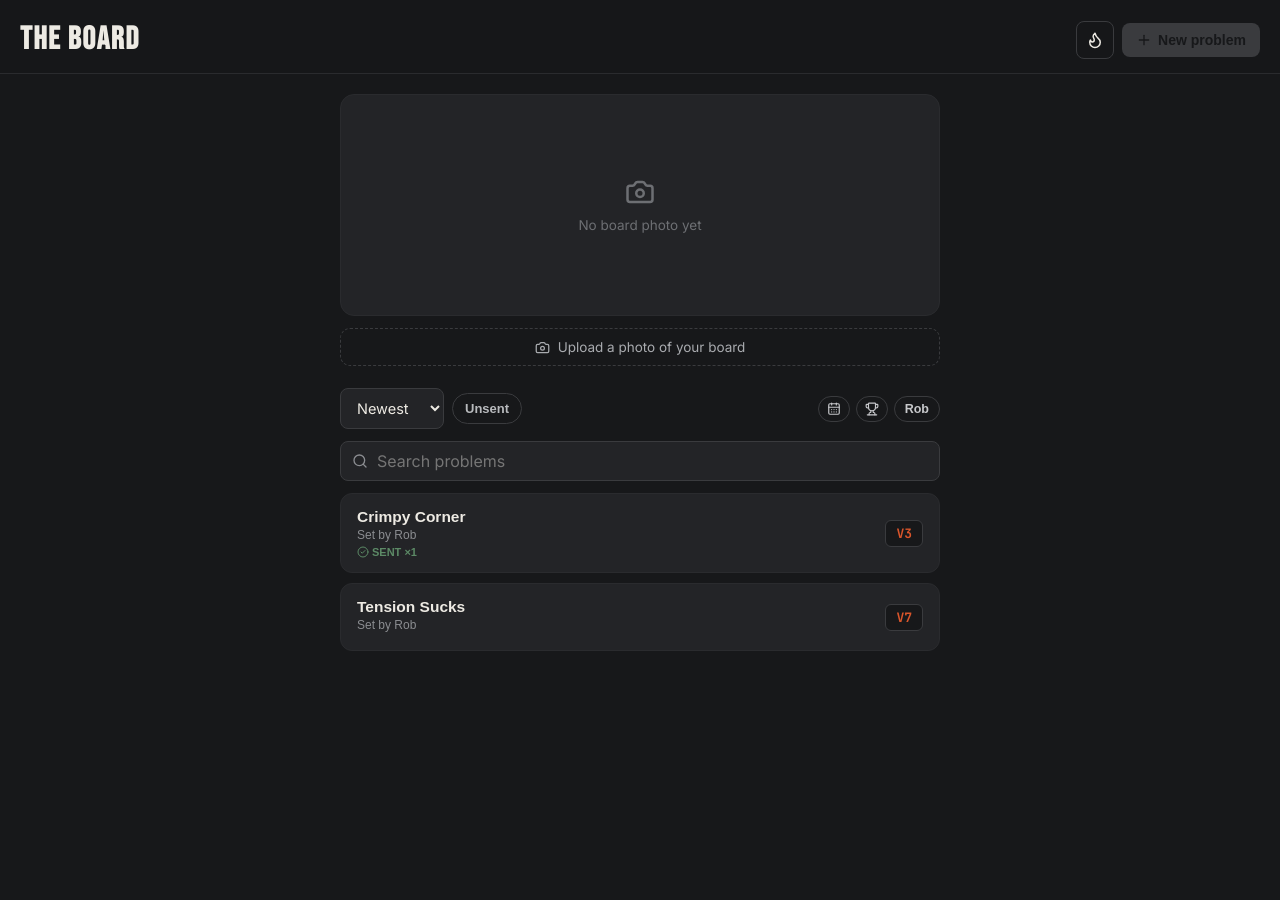
Scenario: App (unsent by the current climber) › drops a problem from Unsent as soon as you log a send on it
expect the button with aria-label "Climbing as Rob" is shown: met, box top-left (894, 396), bottom-right (940, 422)
What coordinates should you click on to do the following:
click the button "Unsent"
I would click on:
 (487, 408)
Its box is top-left (452, 393), bottom-right (522, 424).
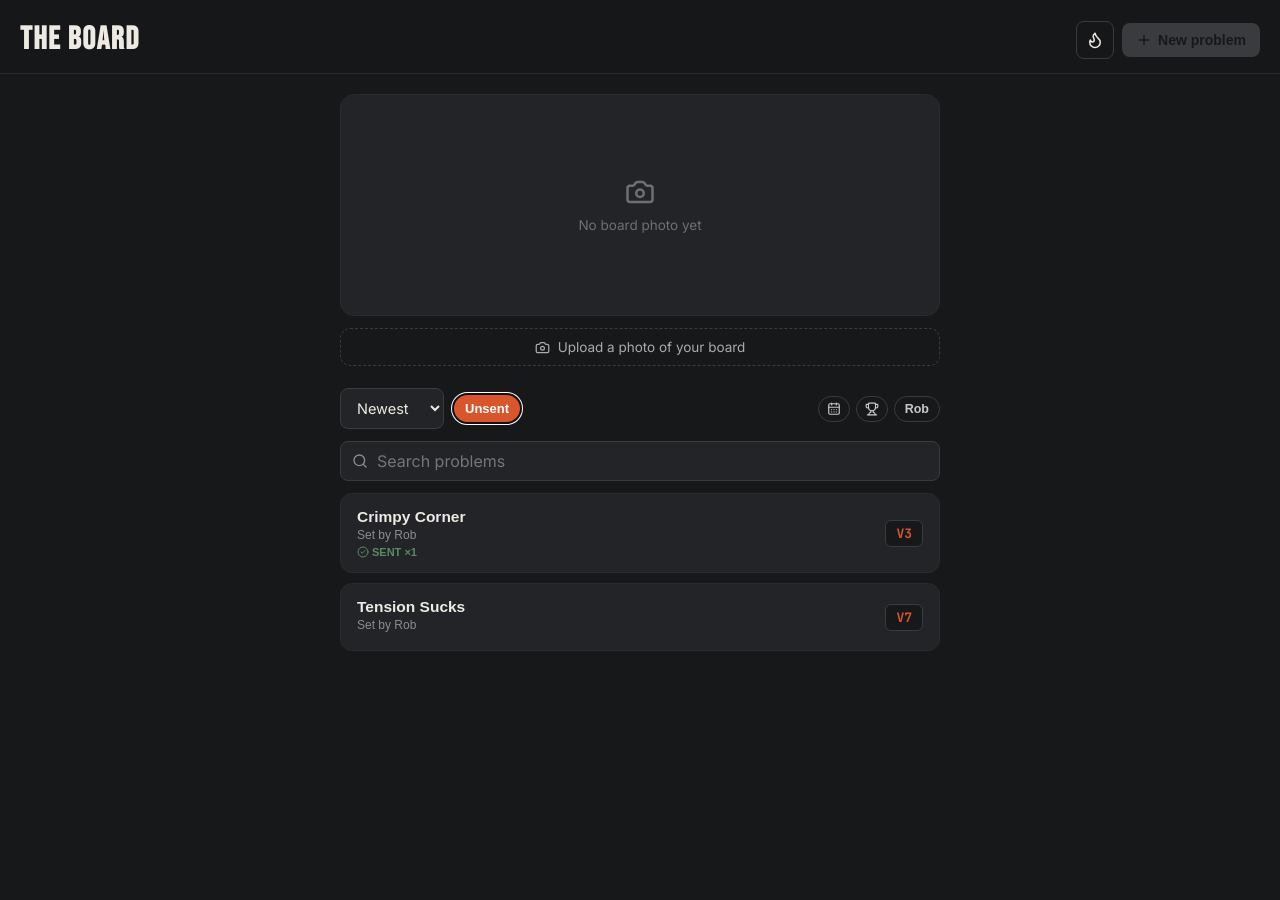
What coordinates should you click on to do the following:
click the text "Crimpy Corner"
I would click on:
 (411, 517)
Its box is top-left (357, 508), bottom-right (466, 526).
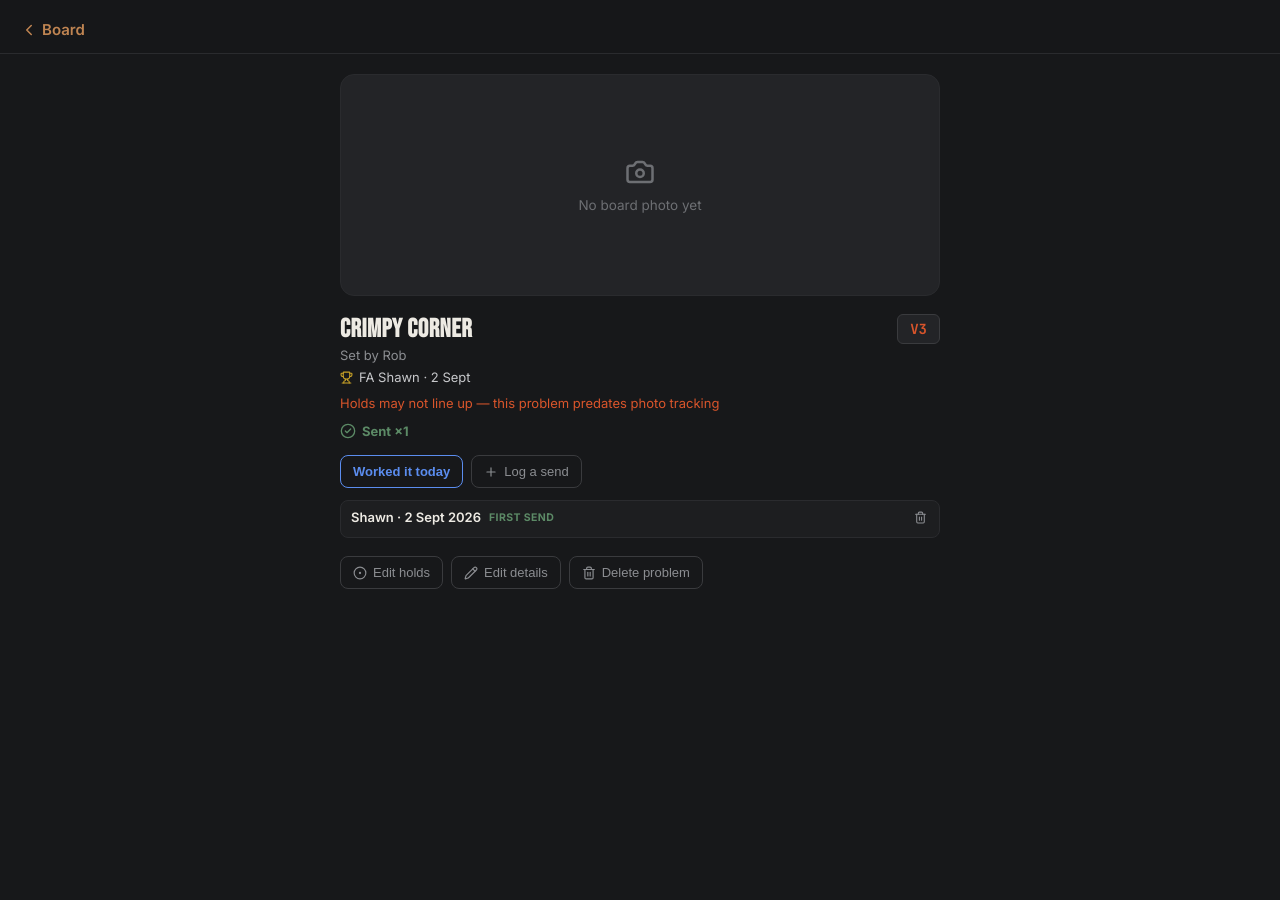
What coordinates should you click on to do the following:
click the button "Log a send"
I would click on:
 (526, 472)
Its box is top-left (471, 455), bottom-right (582, 488).
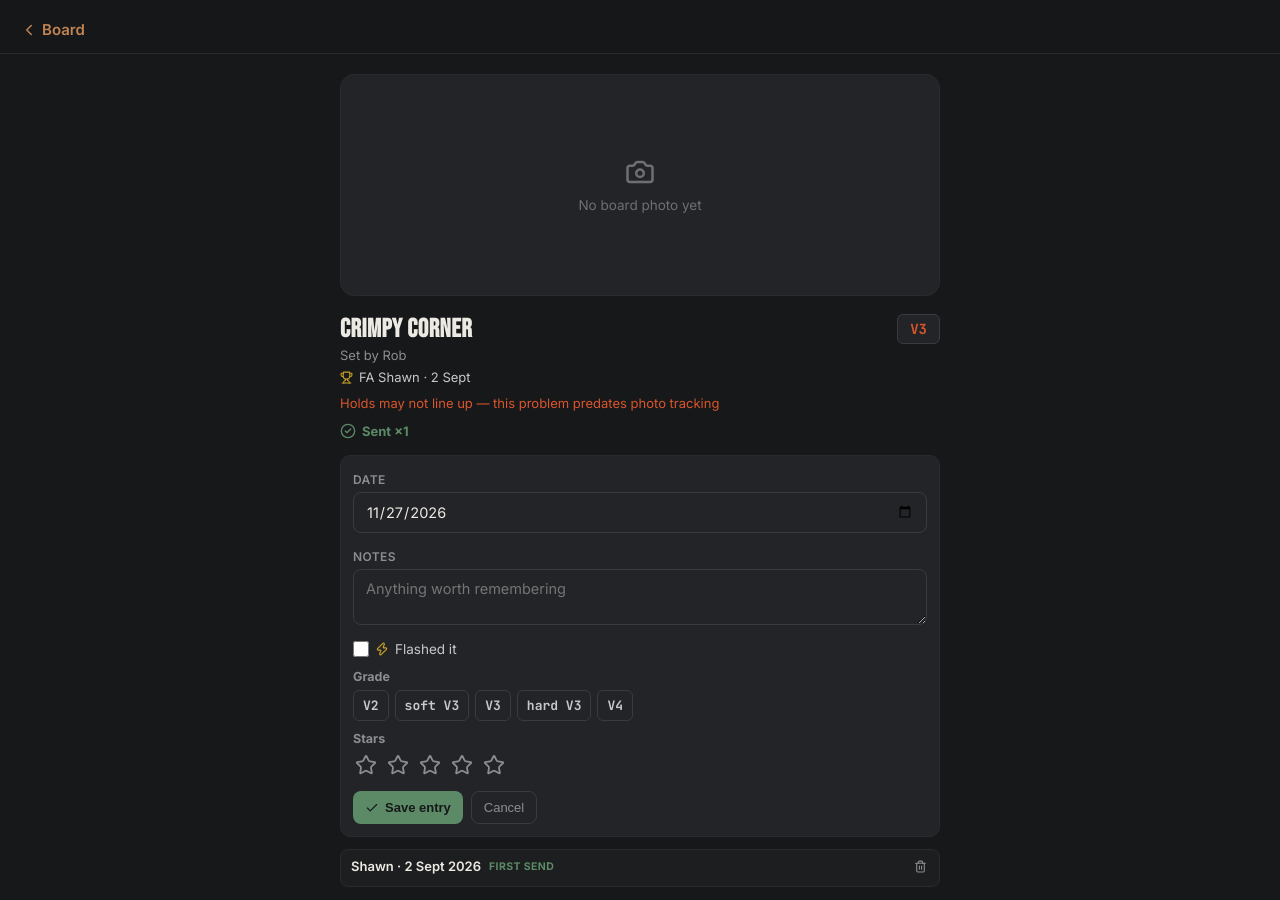
What coordinates should you click on to do the following:
click the button "Save entry"
I would click on:
 (408, 808)
Its box is top-left (353, 791), bottom-right (463, 824).
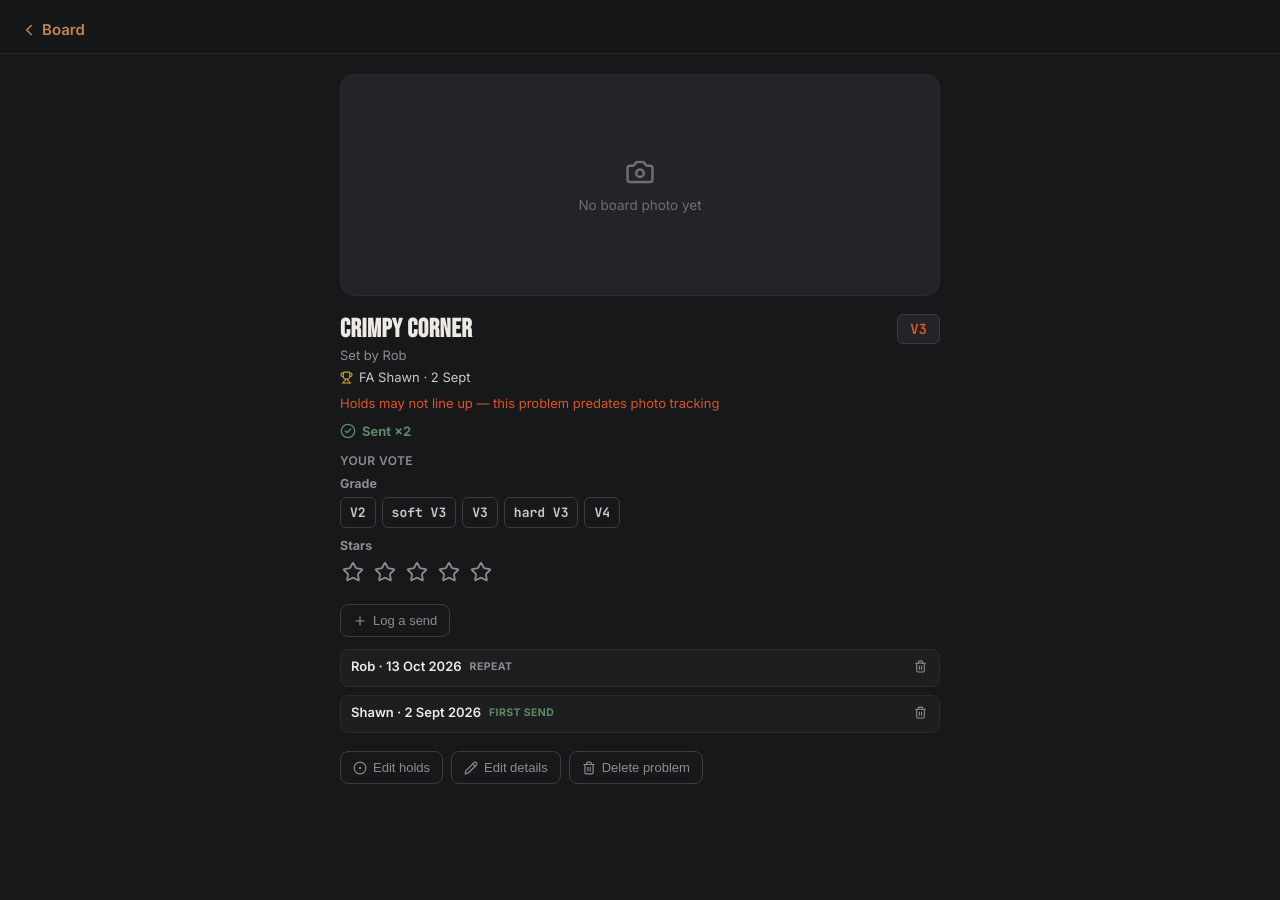
expect the text "Rob · 13 Oct 2026" is shown: met, box top-left (351, 658), bottom-right (462, 674)
What coordinates should you click on to do the following:
click the button "Board"
I would click on:
 (52, 30)
Its box is top-left (20, 20), bottom-right (85, 39).
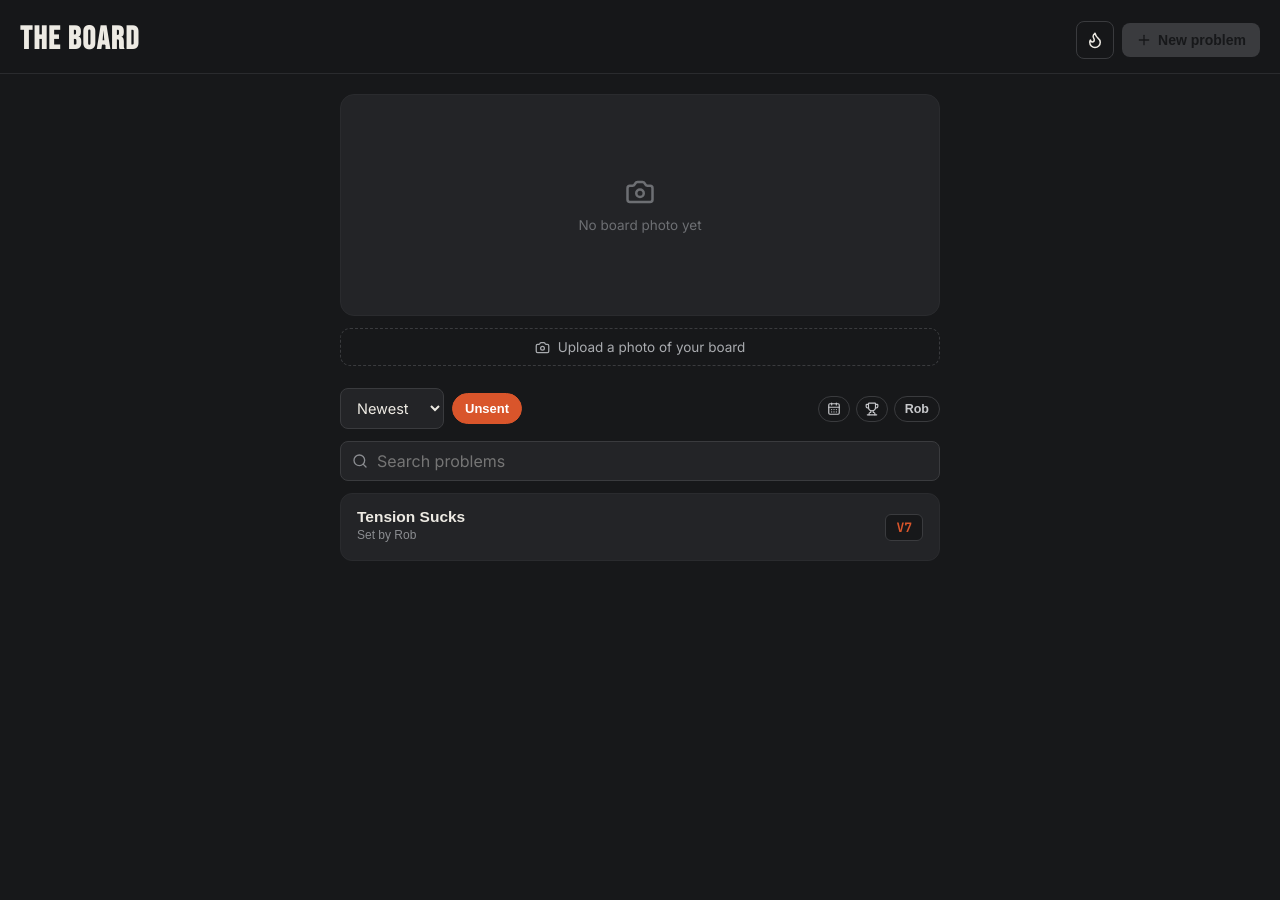
expect the text "Tension Sucks" is shown: met, box top-left (357, 508), bottom-right (465, 526)
expect the heading "Crimpy Corner" is gone: met
